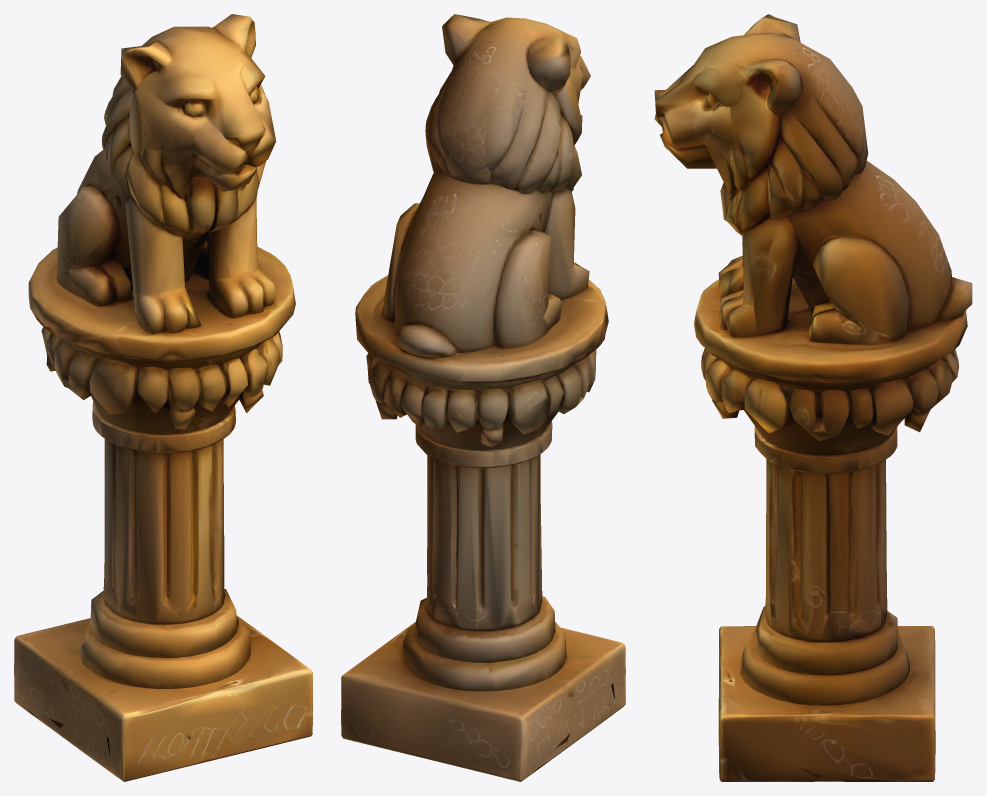
Rendered from mauryan.glb.
The picture shows the model from 3 angles, left to right: view 1: azimuth 30°, elevation 25°; view 2: azimuth 150°, elevation 25°; view 3: azimuth 270°, elevation 25°; orthographic projection. The views are drawn at different scales.
Visible parts, largest first — view 1: model; view 2: model; view 3: model.
Part boxes in pixels (<box>): model: <box>14,14,312,781</box>; model: <box>341,14,625,781</box>; model: <box>654,14,972,781</box>.
Size of the model in its own units: 0.6046 by 1.81 by 0.7441.
1 material, 1 textured.
